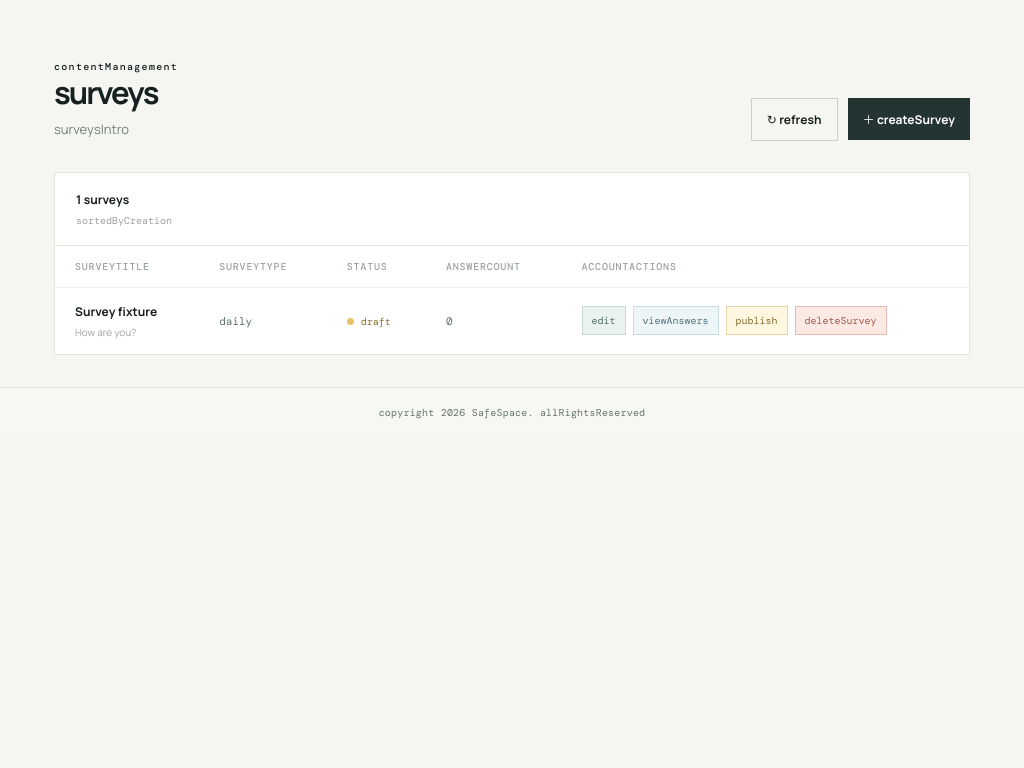
Scenario: [integration] src/pages/SurveysPage.tsx › mutation failure keeps input for retry
Check: the text "Survey fixture" is shown, box [75,302,157,320]
Click the button "＋ createSurvey": coordinates (909, 119) [848,98,970,140]
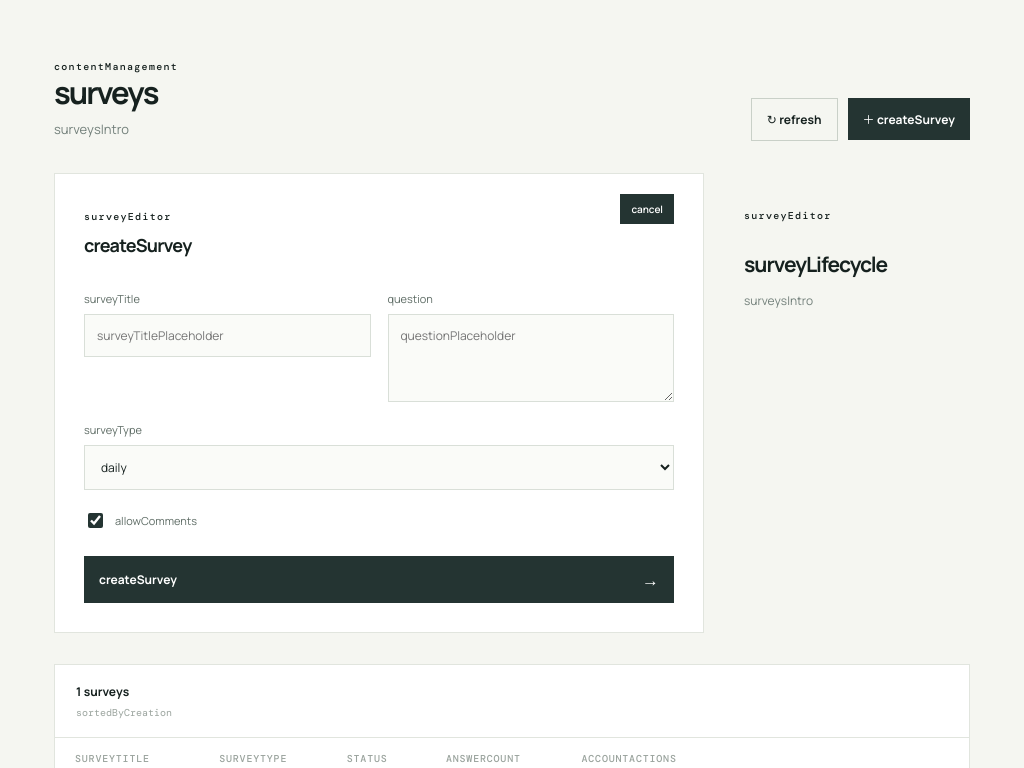
In the field labelled "surveyTitle": coordinates (227, 335) [84,314,370,356], type "New survey"
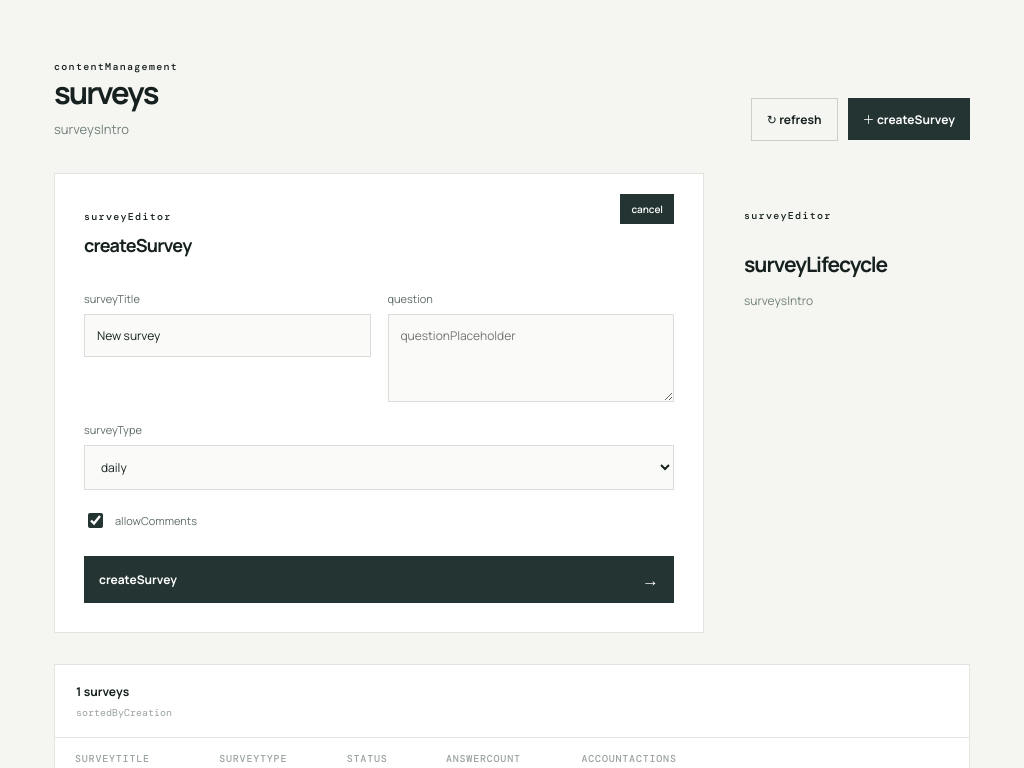
In the text box labelled "question": coordinates (531, 358) [388,314,674,402], type "Question?"
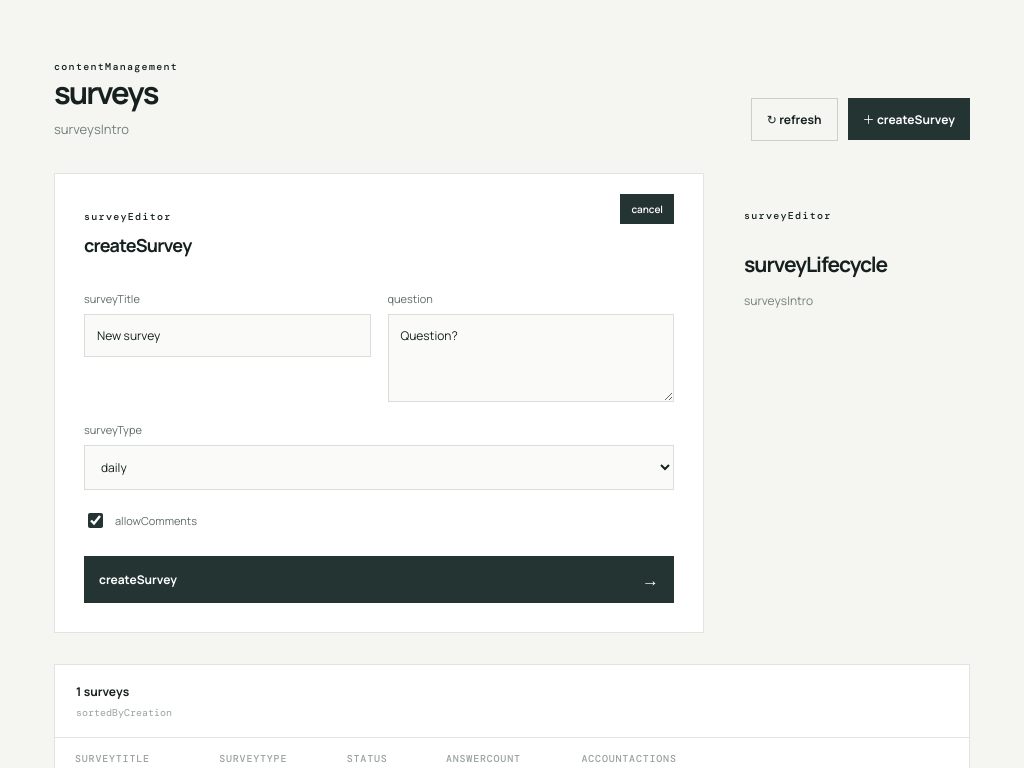
Submit the form, box [84,290,674,602]
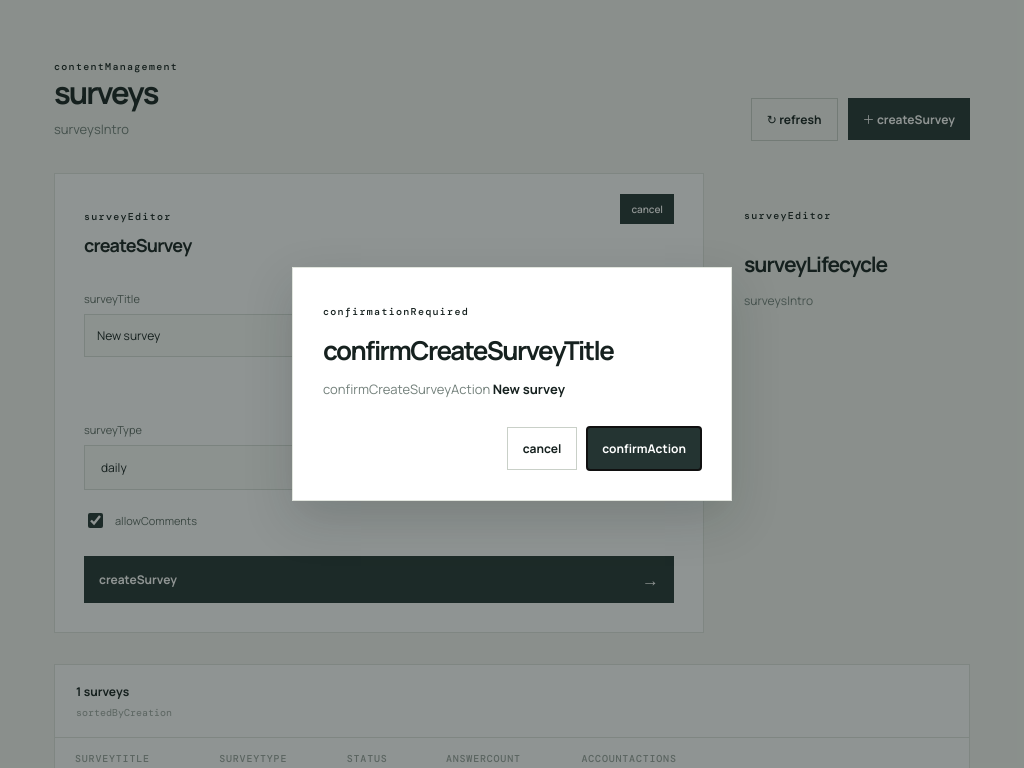
Click the button "confirmAction": coordinates (644, 448) [587,426,701,470]
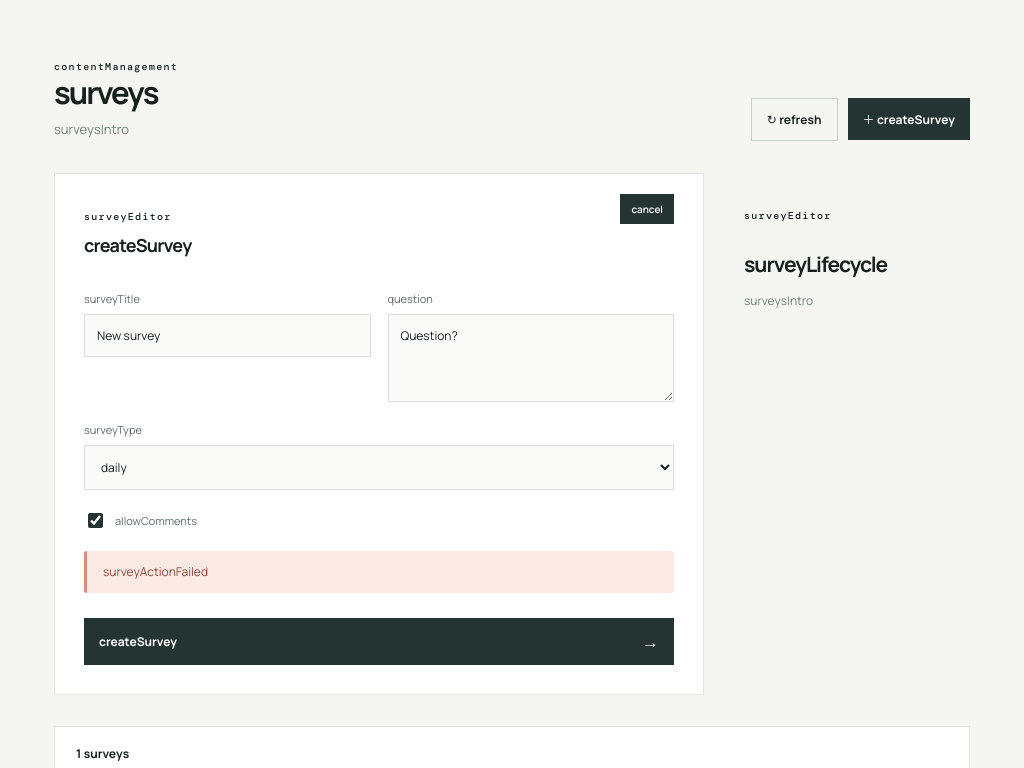
Check: the text "surveyActionFailed" is shown, box [84,550,674,593]
